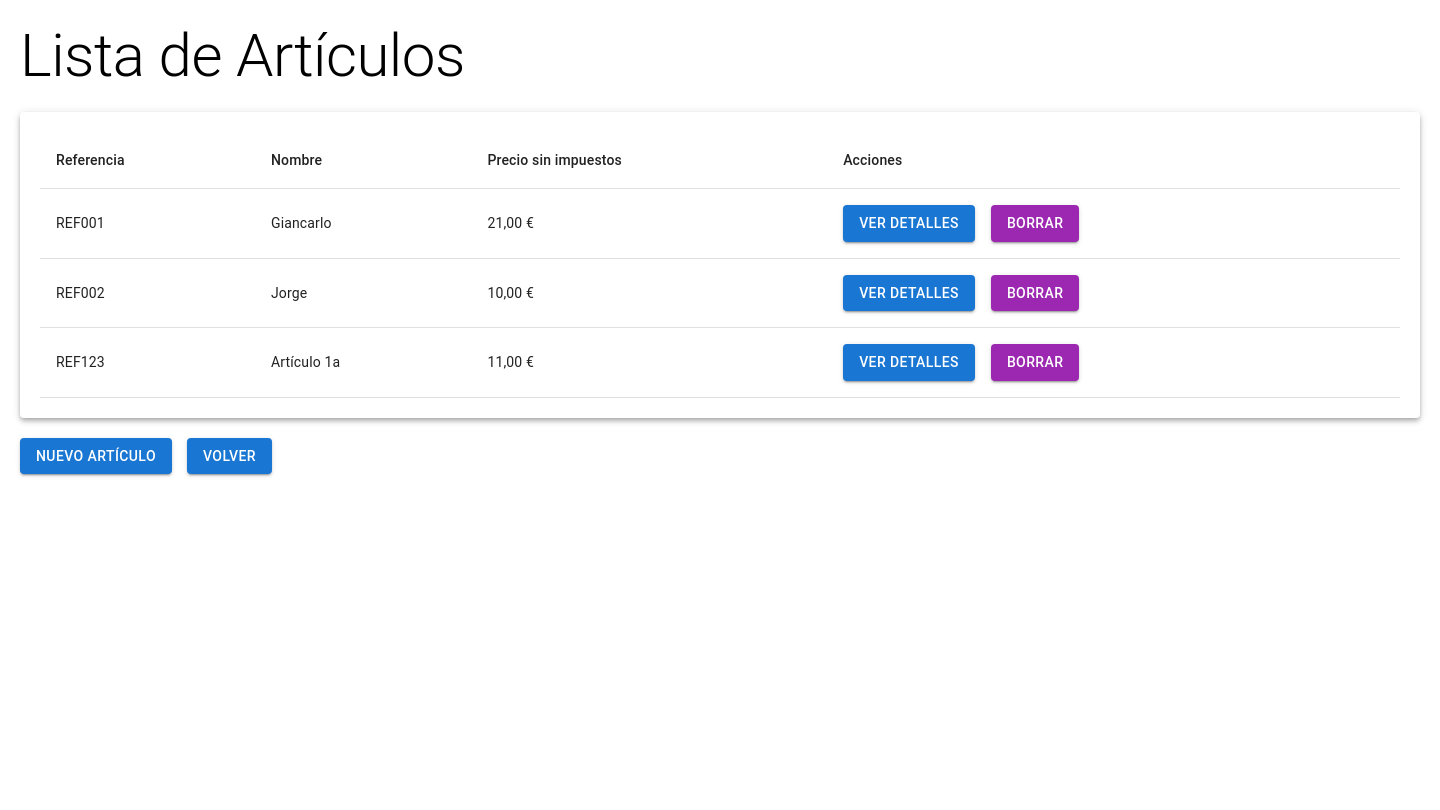
Test: Articles › click to delete, fail to delete and retry correcly
The width and height of the screenshot is (1440, 810).
Check: the text "Giancarlo" is shown, box [255,188,471,258]
Click the button "Borrar" in the row of "REF001". click: point(1035, 223)
box: [991,205,1079,242]
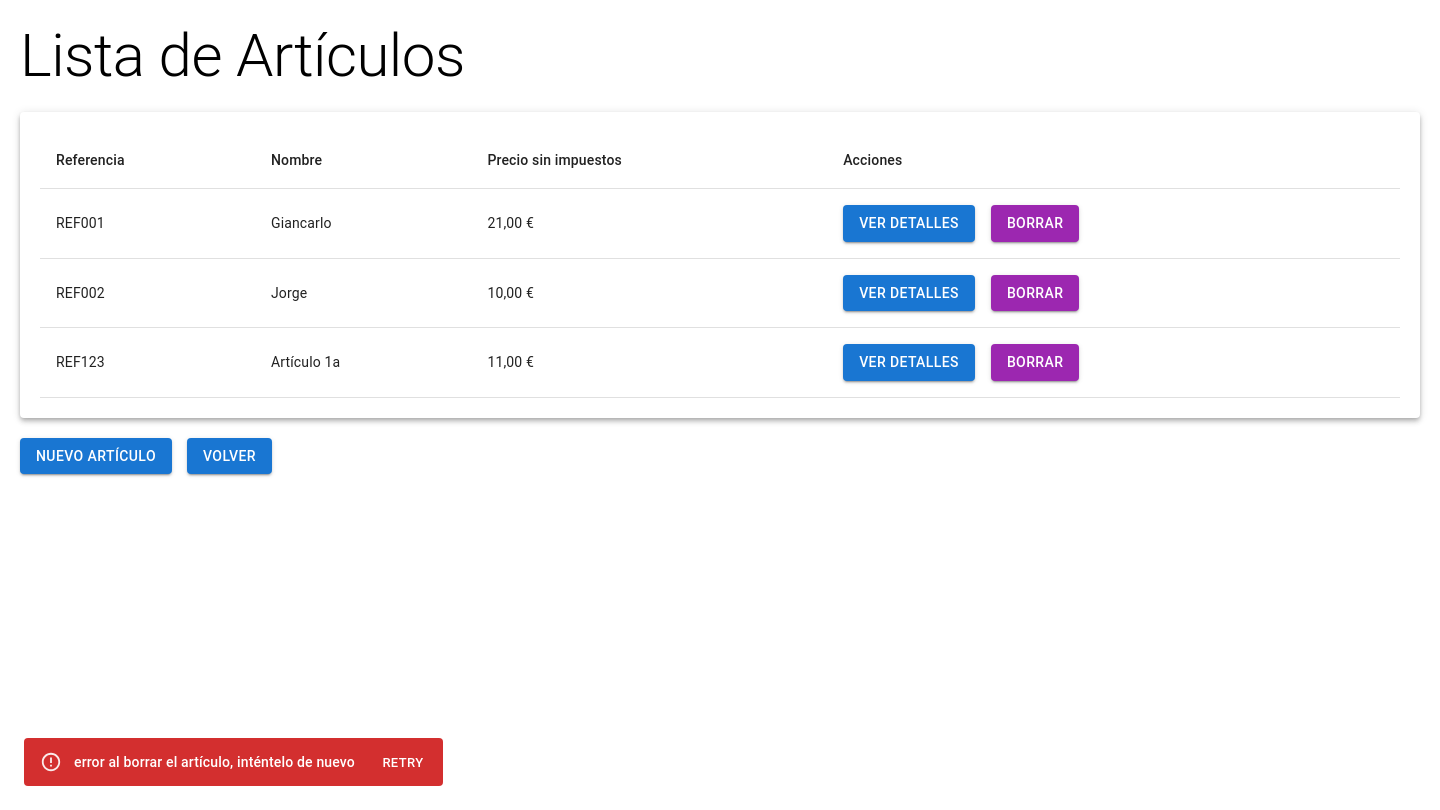
Check: the text "Giancarlo" is shown, box [255,188,471,258]
Check: the text "error al borrar el artículo, inténtelo de nuevo" is shown, box [74,754,355,770]
Check: the button "Retry" is shown
Click the button "Retry". click: point(403, 763)
box: [371,748,435,779]
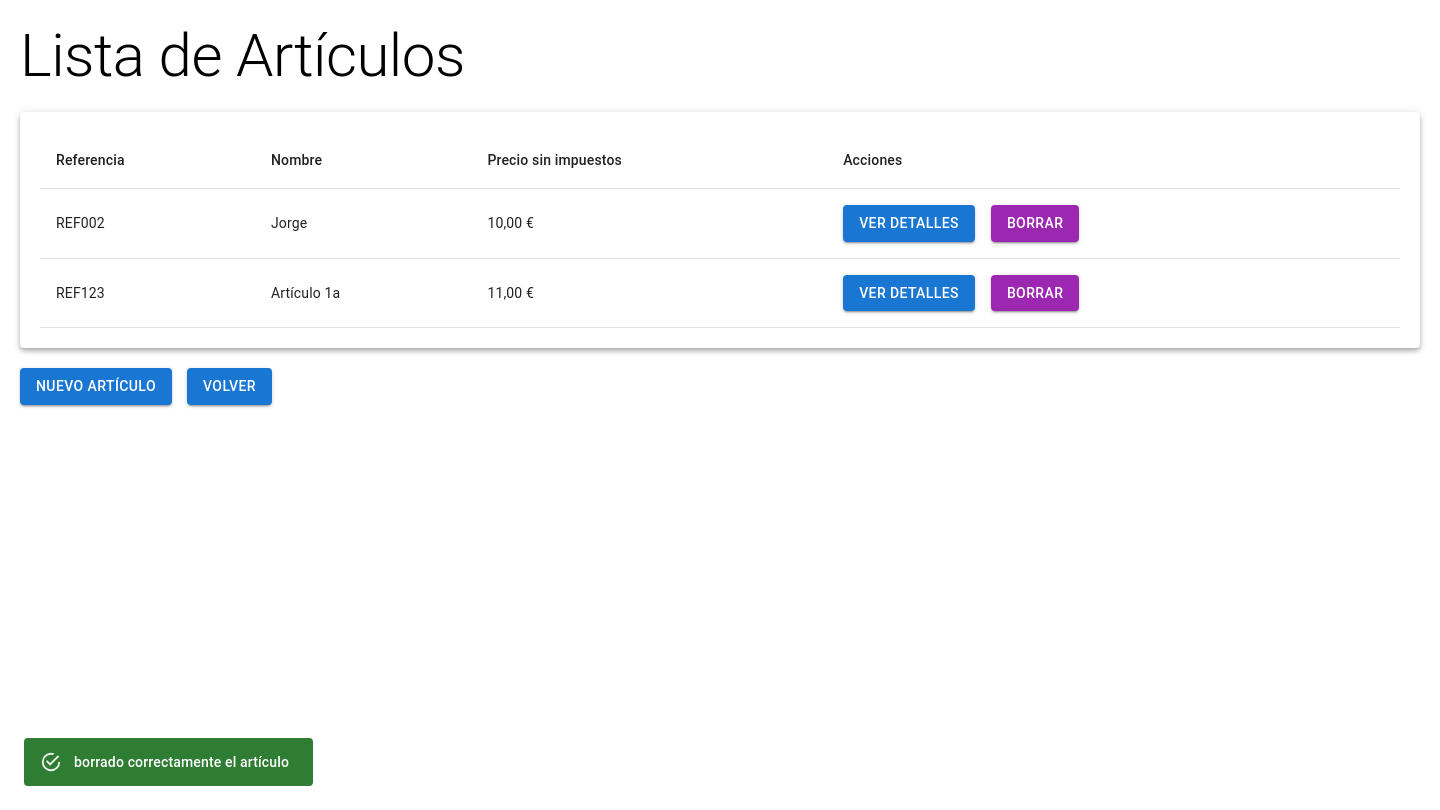
Check: the text "borrado correctamente el artículo" is shown, box [74,754,289,770]
